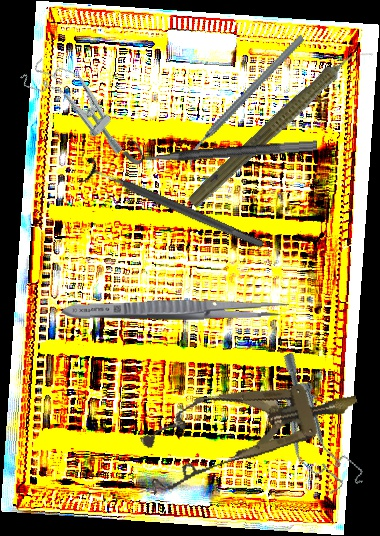Chopper: (158, 33, 333, 169)
Dressing Forceps: (61, 296, 290, 323)
Fixation Ring: (77, 155, 269, 259), (122, 124, 318, 166)
Handpiece: (184, 34, 375, 216)
Speculum: (133, 358, 368, 498), (255, 347, 367, 503), (17, 46, 141, 163)
